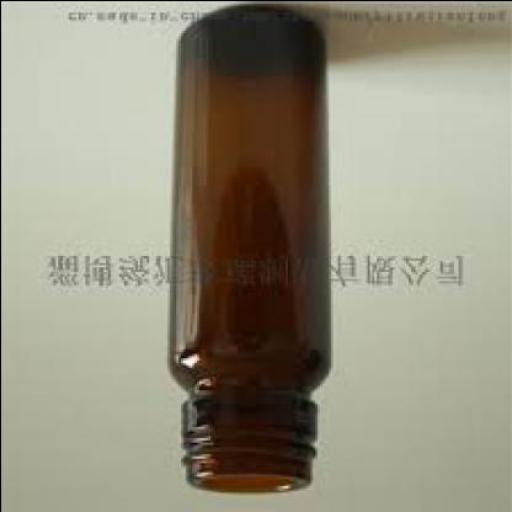glass: (168, 9, 328, 494)
